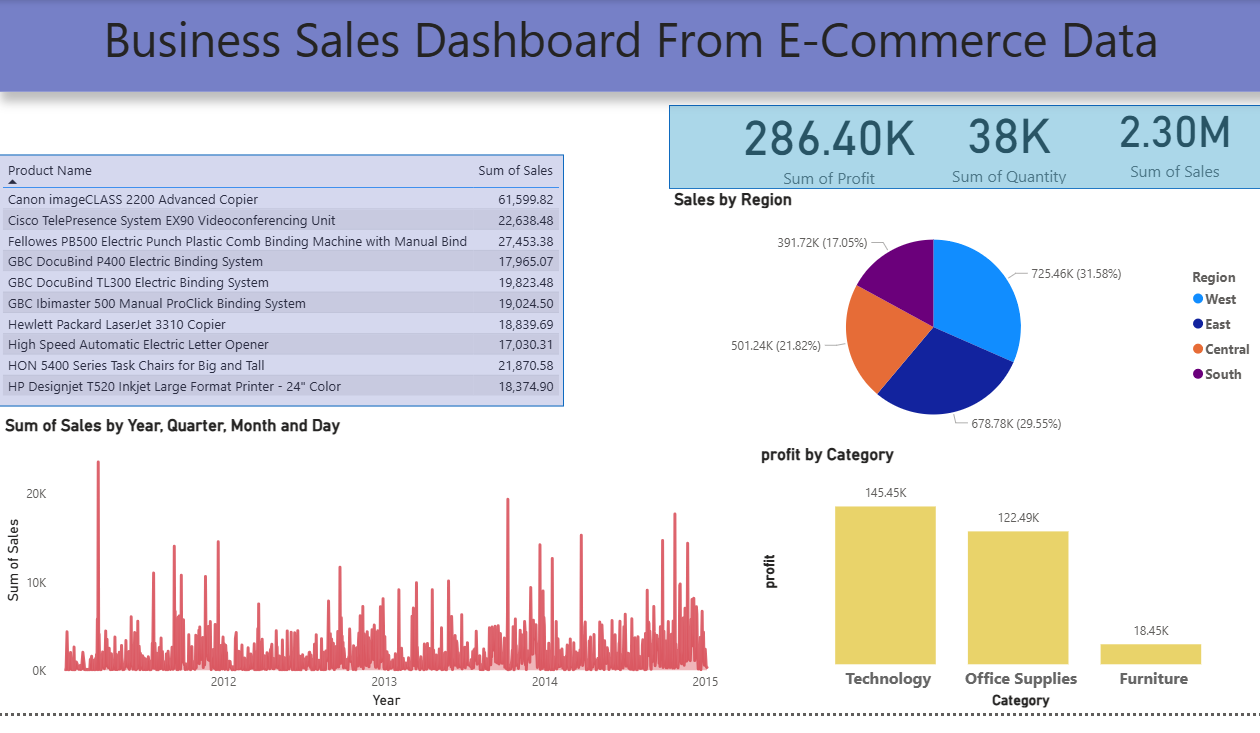

The page's visual inventory and layout, read from the dashboard file:
{"tool":"powerbi","page":{"name":"Page 1","canvas":[1280,720],"ordinal":0},"visuals":[{"type":"tableEx","fields":{"Values":["Orders.Product Name","Sum(Orders.Sales)"]},"box":[0,156,664.7,263.5],"z":0},{"type":"shape","box":[0,156,572.4,254.4],"z":1000},{"type":"areaChart","fields":{"Category":["Orders (2).Ship Date.Variation.Date Hierarchy.Year","Orders (2).Ship Date.Variation.Date Hierarchy.Quarter","Orders (2).Ship Date.Variation.Date Hierarchy.Month","Orders (2).Ship Date.Variation.Date Hierarchy.Day"],"Y":["Sum(Orders (2).Sales)"]},"box":[3,419.4,731.4,299.8],"z":2000},{"type":"columnChart","title":"profit by Category","fields":{"Category":["Orders (2).Category"],"Y":["Sum(Orders (2).Profit)"]},"box":[766.2,448.2,513.3,271],"z":3000},{"type":"pieChart","title":"Sales by Region","fields":{"Category":["Orders (2).Region"],"Y":["Sum(Orders (2).Sales)"]},"box":[678.4,190.8,601.1,257.4],"z":4000},{"type":"card","fields":{"Values":["Sum(Orders (2).Sales)"]},"box":[1097.8,92.4,181.7,92.4],"z":5000},{"type":"card","fields":{"Values":["Sum(Orders (2).Quantity)"]},"box":[944.9,92.4,152.9,98.4],"z":6000},{"type":"card","fields":{"Values":["Sum(Orders (2).Profit)"]},"box":[734.4,92.4,210.5,101.5],"z":7000},{"type":"shape","box":[678.4,106,601.1,84.8],"z":7001},{"type":"textbox","box":[0,0,1279.5,92.4],"z":7002}]}

Visuals, with their boxes on the page's 1280x720 design canvas (x1, y1, x2, y2). These are canvas units, not pixel positions in the 1260x733 screenshot, which may show the page scaled, cropped or inside an application window:
tableEx - Orders.Product Name x Sum(Orders.Sales): (left=0, top=156, right=665, bottom=420)
shape: (left=0, top=156, right=572, bottom=410)
areaChart - Orders (2).Ship Date.Variation.Date Hierarchy.Year x Orders (2).Ship Date.Variation.Date Hierarchy.Quarter: (left=3, top=419, right=734, bottom=719)
"profit by Category" columnChart: (left=766, top=448, right=1280, bottom=719)
"Sales by Region" pieChart: (left=678, top=191, right=1280, bottom=448)
card - Sum(Orders (2).Sales): (left=1098, top=92, right=1280, bottom=185)
card - Sum(Orders (2).Quantity): (left=945, top=92, right=1098, bottom=191)
card - Sum(Orders (2).Profit): (left=734, top=92, right=945, bottom=194)
shape: (left=678, top=106, right=1280, bottom=191)
textbox: (left=0, top=0, right=1280, bottom=92)
